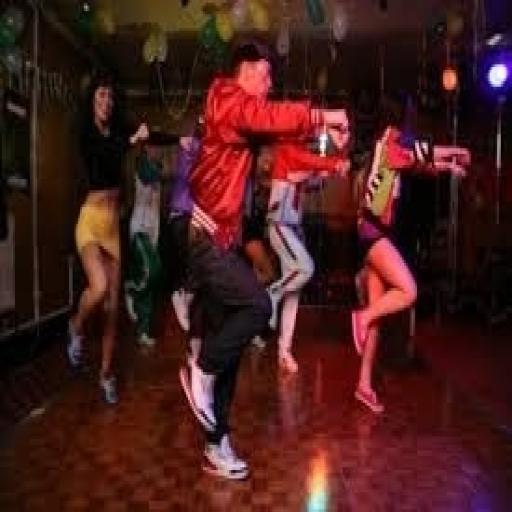dancing: (175, 36, 354, 484), (348, 92, 473, 420), (63, 64, 153, 408)
